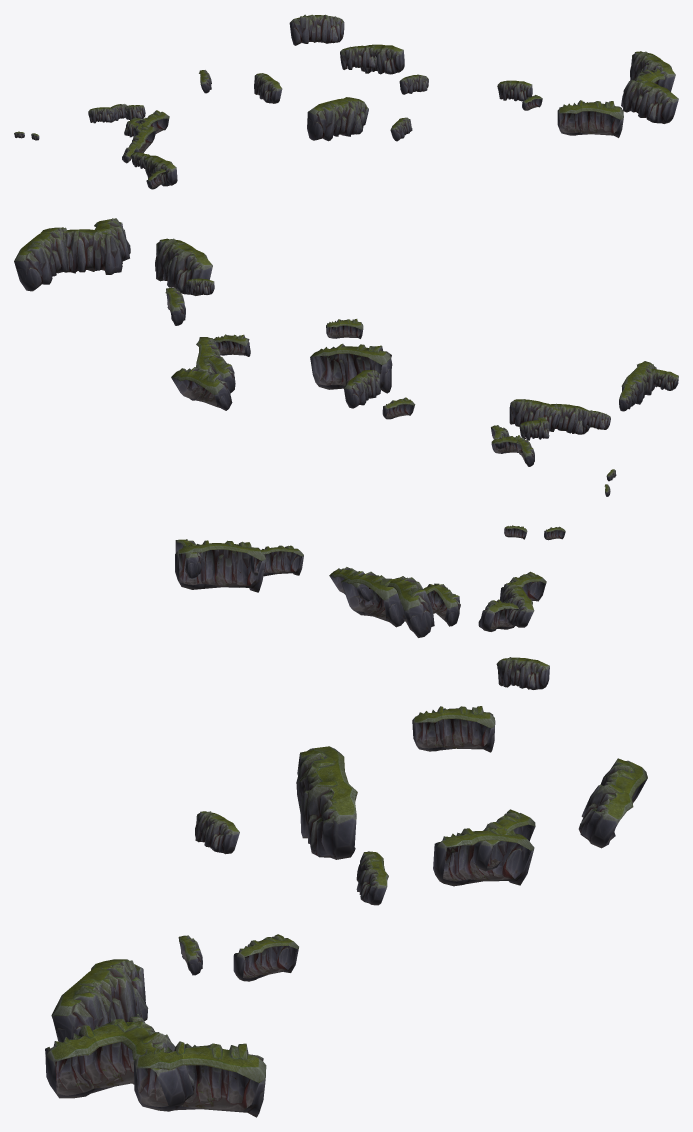
The model's file is Stone_Cliff_2.FBX.
3 renders of one model, top to bottom at view 1: azimuth 30°, elevation 25°; view 2: azimuth 150°, elevation 25°; view 3: azimuth 270°, elevation 25°, orthographic. The views are drawn at different scales.
Visible parts, largest first — view 1: Cliff_LowPoly037; view 2: Cliff_LowPoly037; view 3: Cliff_LowPoly037.
Boxes of the visible parts, x1,y1,x2,y2 form: Cliff_LowPoly037: (14, 14, 678, 189); Cliff_LowPoly037: (14, 218, 678, 496); Cliff_LowPoly037: (45, 525, 647, 1117).
Bounding box in the file's own units: 1127 × 125 × 526.
